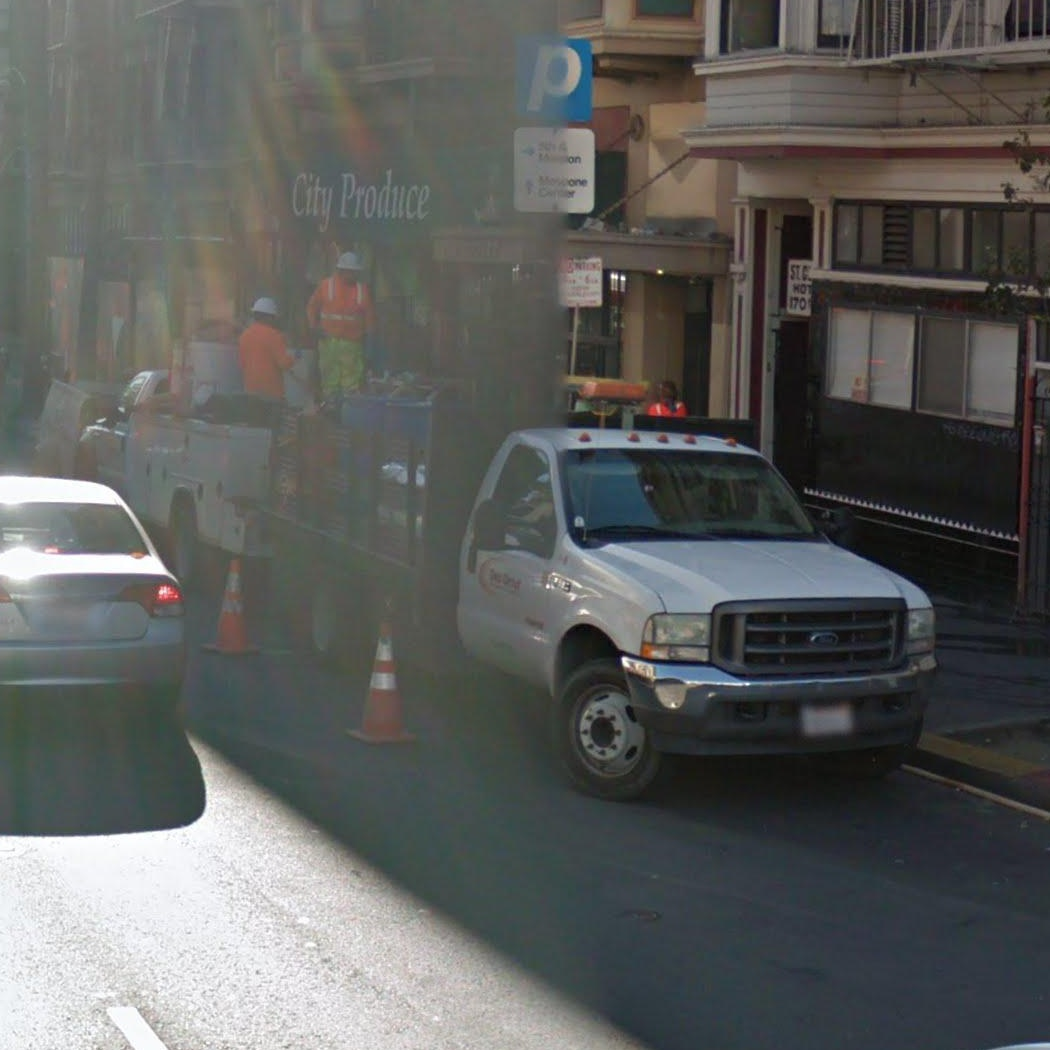No Parking: (557, 256, 604, 310)
